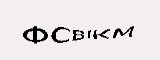І: (85, 28, 93, 42)
В: (71, 29, 84, 43)
К: (92, 26, 110, 42)
М: (111, 24, 133, 41)
С: (50, 26, 71, 44)
Ф: (21, 24, 48, 45)
